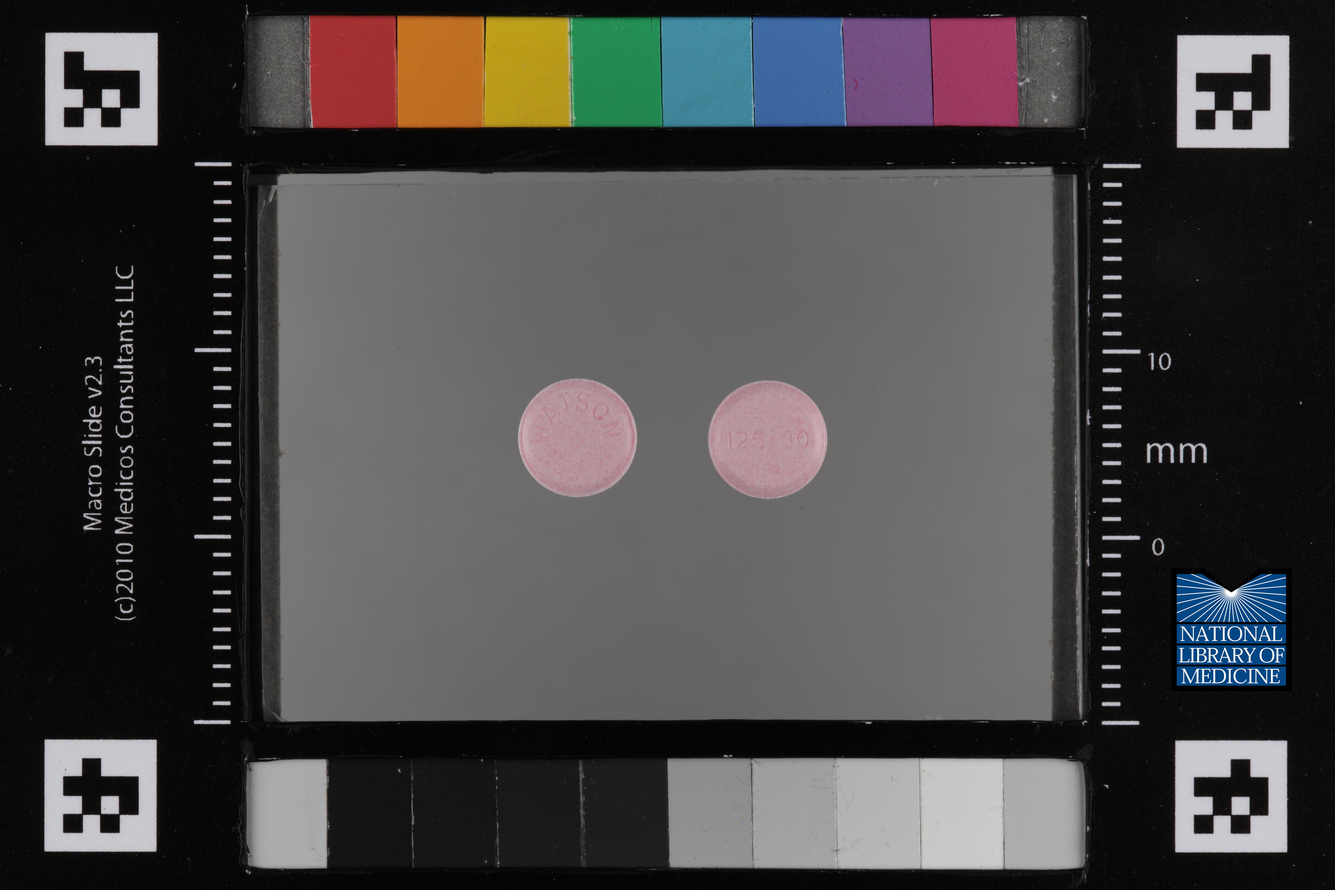Pill: (512, 374, 642, 505), (705, 373, 831, 505)
